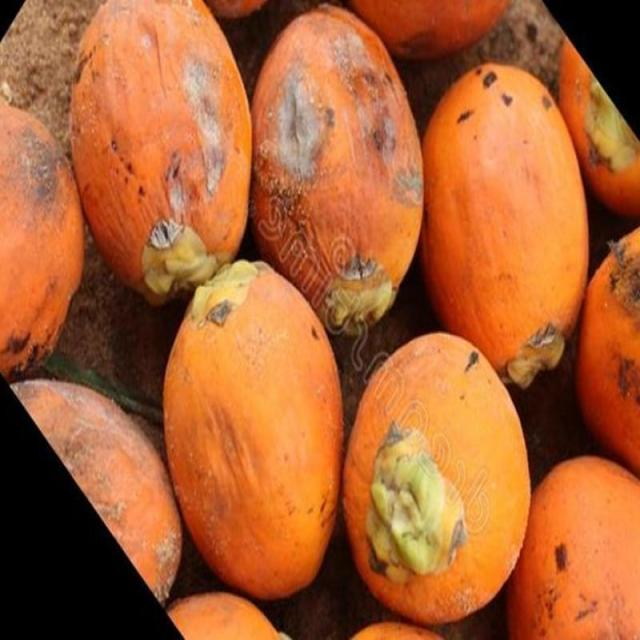good: (161, 257, 349, 606), (417, 64, 590, 391), (341, 335, 532, 629), (501, 456, 639, 639)
